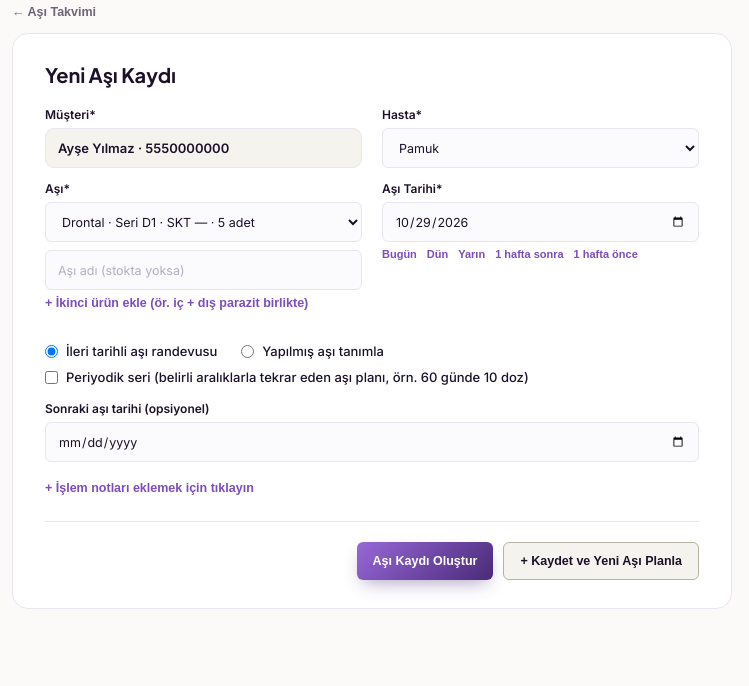
Test: NewVaccinationPage — ikinci ürün › records each product separately, each with its own stock item
Select "Drontal · Seri D1 · SKT — · 5 adet" in the dropdown named "Aşı stoktan". click: (204, 222)
box: [45, 202, 362, 242]
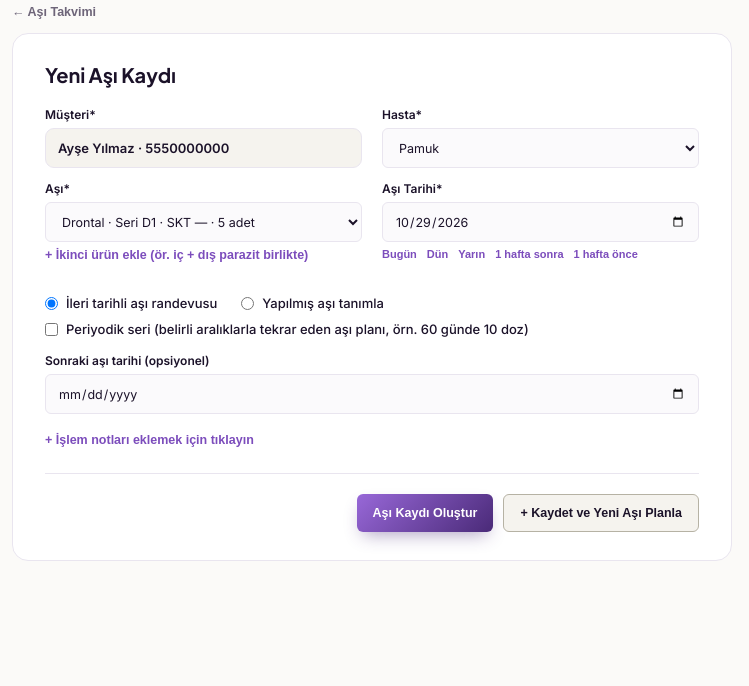
Click the button "+ İkinci ürün ekle (ör. iç + dış parazit birlikte)". click: (177, 255)
box: [45, 248, 308, 262]
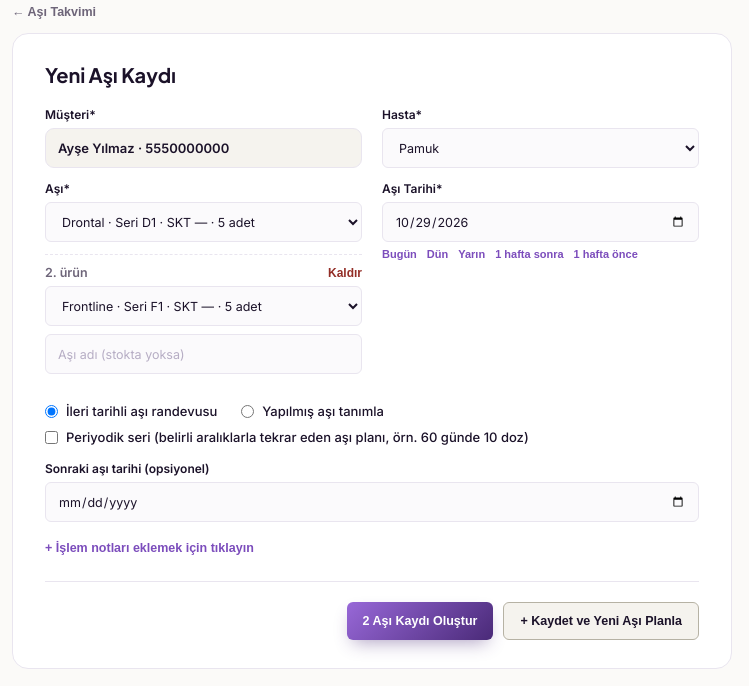
Select "Frontline · Seri F1 · SKT — · 5 adet" in the dropdown named "2. ürün stoktan". click: (204, 306)
box: [45, 286, 362, 326]
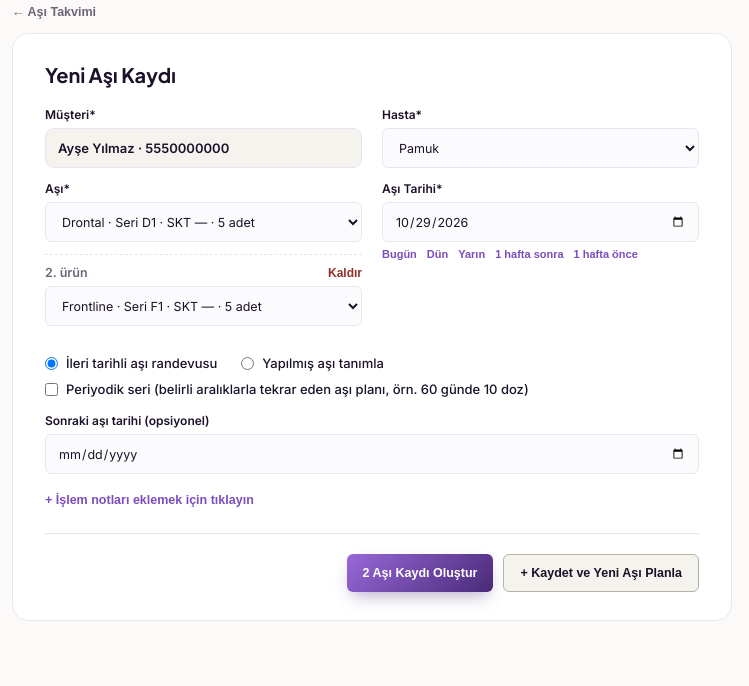
Check: the button "2 Aşı Kaydı Oluştur" is shown, box [347, 554, 493, 592]
Click the button "+ Kaydet ve Yeni Aşı Planla". click: (601, 573)
box: [504, 554, 699, 592]
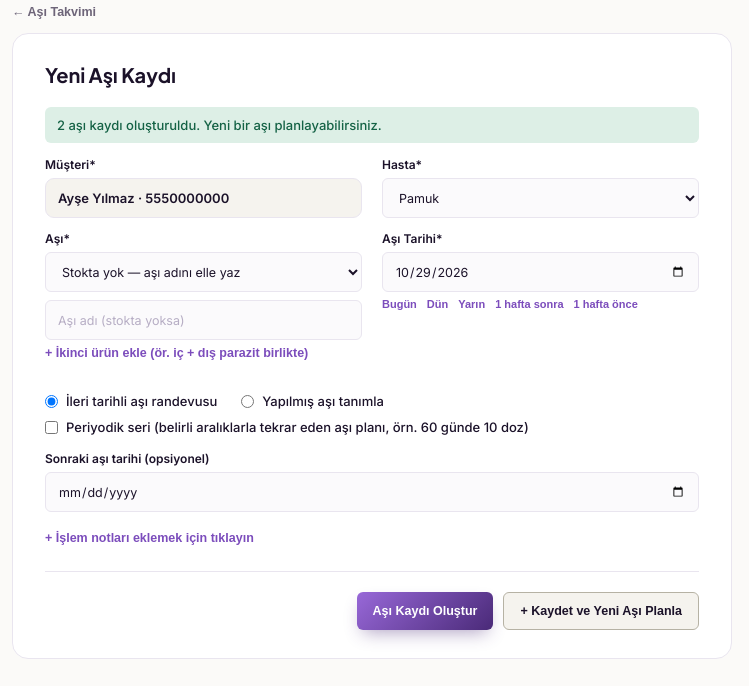
Check: the text "2 aşı kaydı oluşturuldu" is shown, box [57, 117, 382, 133]
